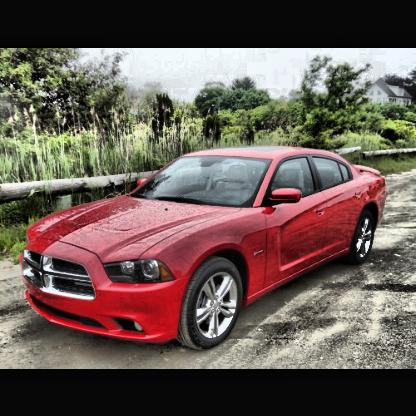Dodge Charger Sedan 2012: (21, 146, 390, 351)
